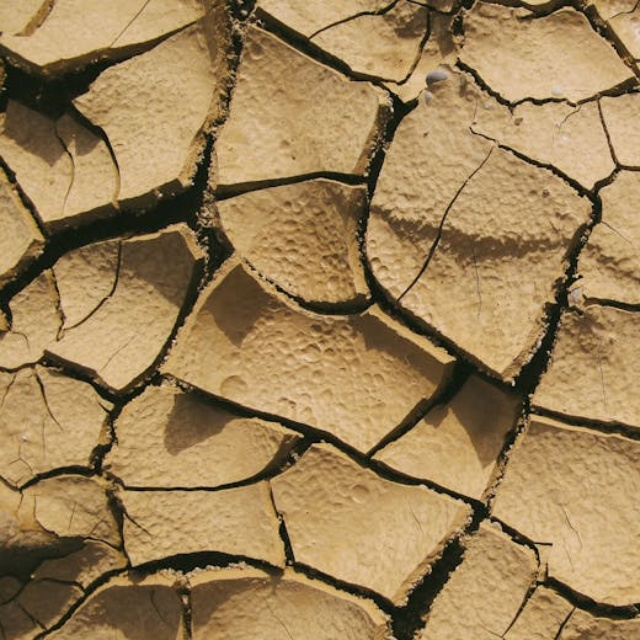深大裂缝: (0, 141, 377, 353), (351, 460, 473, 640)
网状裂隙: (356, 0, 640, 376)
